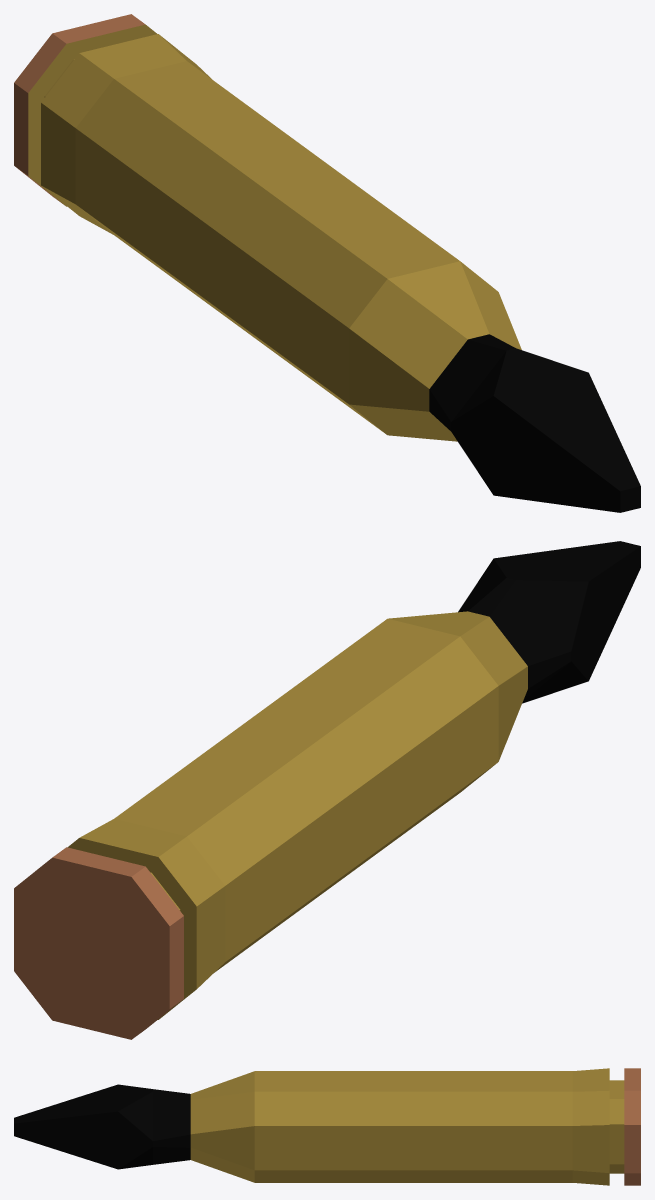
The model's file is bullet.glb.
The picture shows the model from 3 angles, top to bottom: view 1: azimuth 30°, elevation 25°; view 2: azimuth 150°, elevation 25°; view 3: azimuth 270°, elevation 25°; orthographic projection. The views are drawn at different scales.
Visible parts, largest first — view 1: Bullet; view 2: Bullet; view 3: Bullet.
Part boxes in pixels (x1,y1,x2,y2): Bullet: (14, 14, 640, 512); Bullet: (14, 541, 640, 1039); Bullet: (14, 1068, 640, 1185).
Size of the model in its own units: 0.0793 by 0.0793 by 0.4752.
